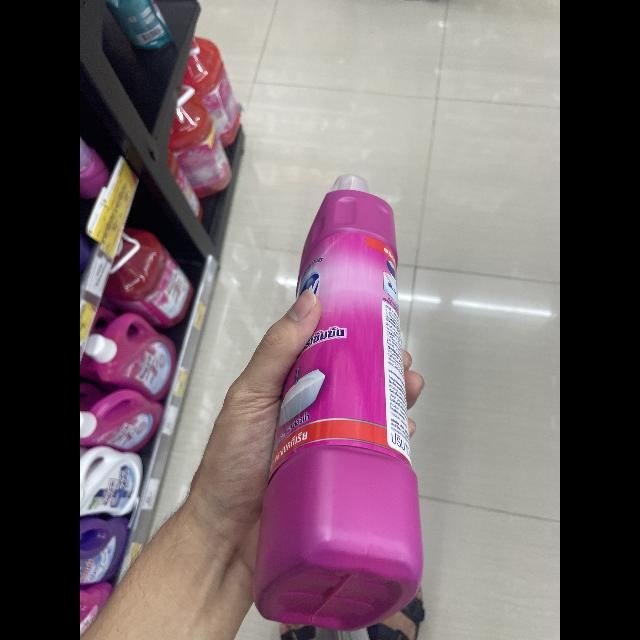chemical_plastic_bottle: (246, 158, 434, 636)
